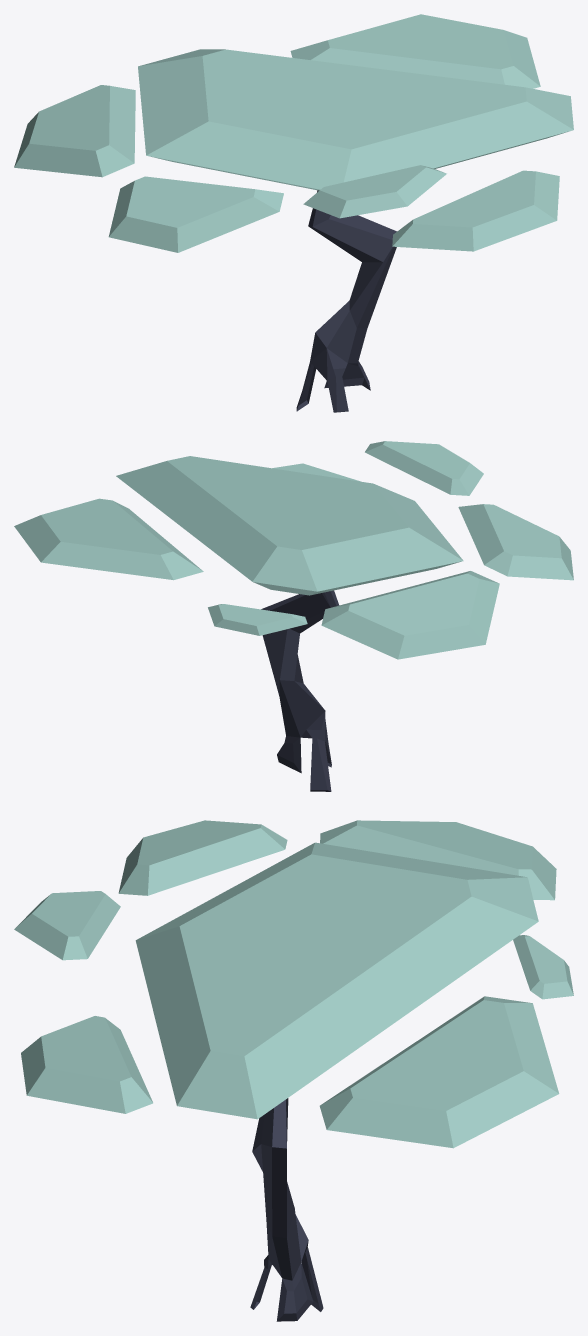
The model's file is Tree_p03.fbx.
The picture shows the model from 3 angles, top to bottom: view 1: azimuth 30°, elevation 25°; view 2: azimuth 150°, elevation 25°; view 3: azimuth 270°, elevation 25°; orthographic projection. The views are drawn at different scales.
Visible parts, largest first — view 1: Decosol01.017; view 2: Decosol01.017; view 3: Decosol01.017.
Part boxes in pixels (x1,y1,x2,y2): Decosol01.017: (14, 14, 573, 412); Decosol01.017: (14, 441, 573, 791); Decosol01.017: (14, 820, 573, 1321).
Bounding box in the file's own units: 878 × 517 × 652.
